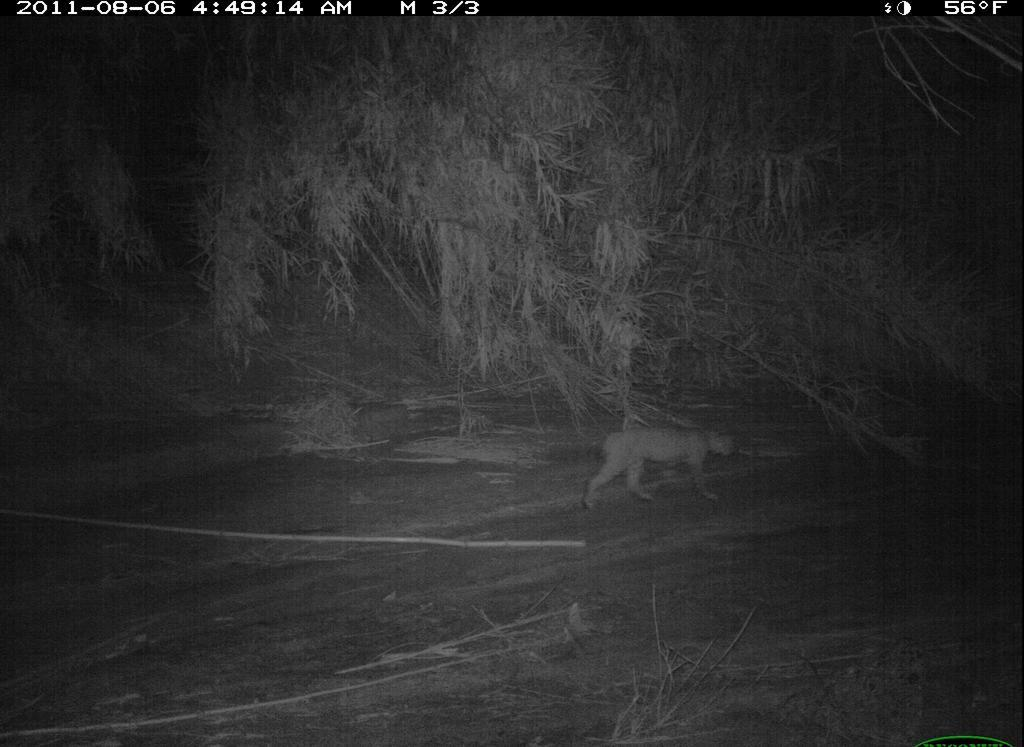bobcat: (565, 411, 748, 518)
